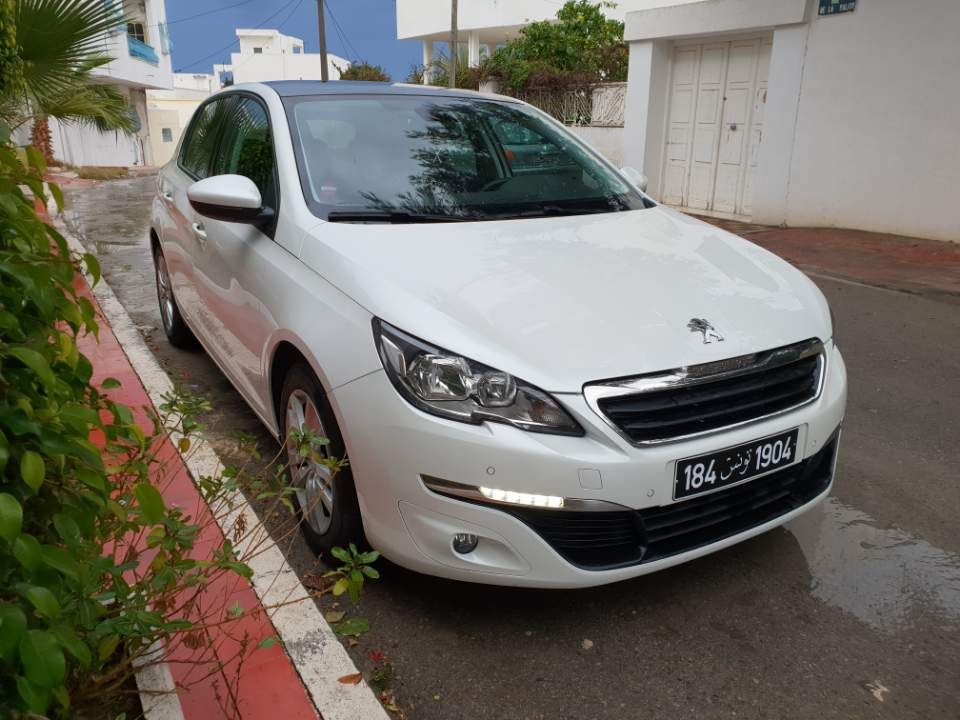LP: (670, 426, 798, 501)
